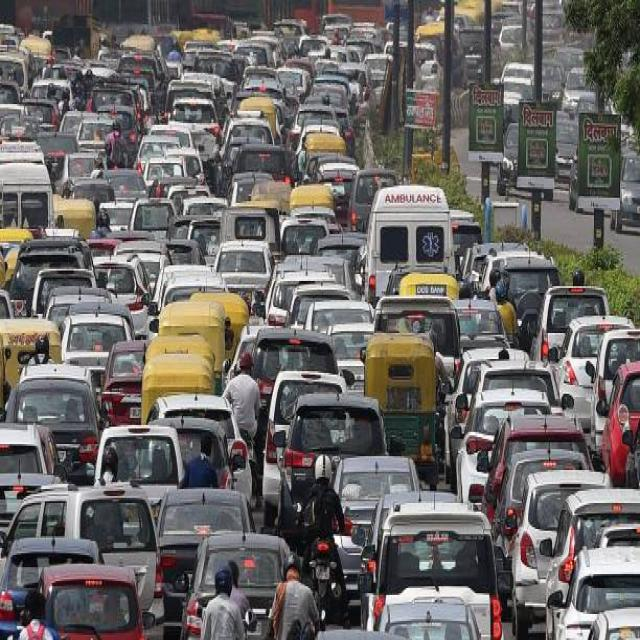ambulance: (379, 188, 445, 212), (417, 221, 446, 267)
